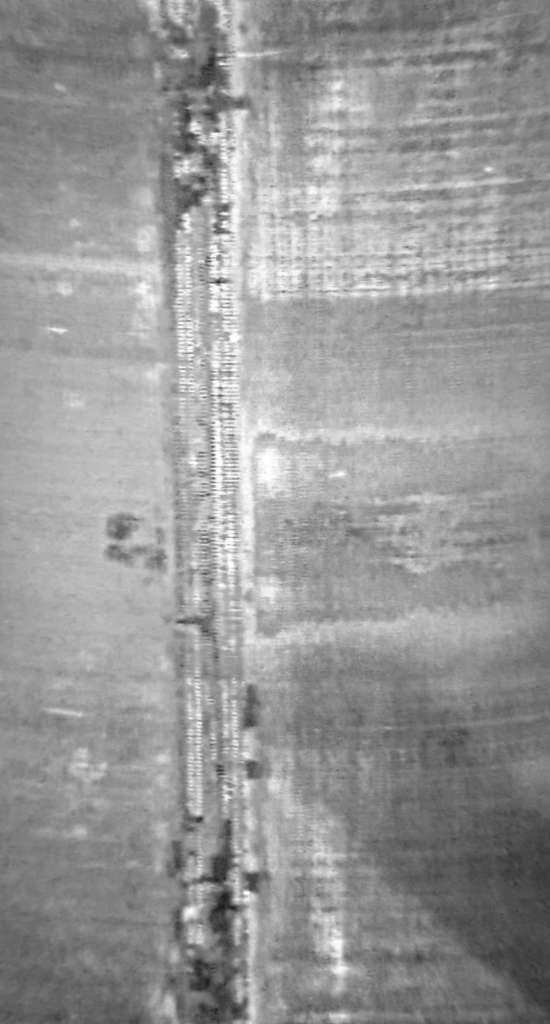splice: (148, 3, 273, 1024)
